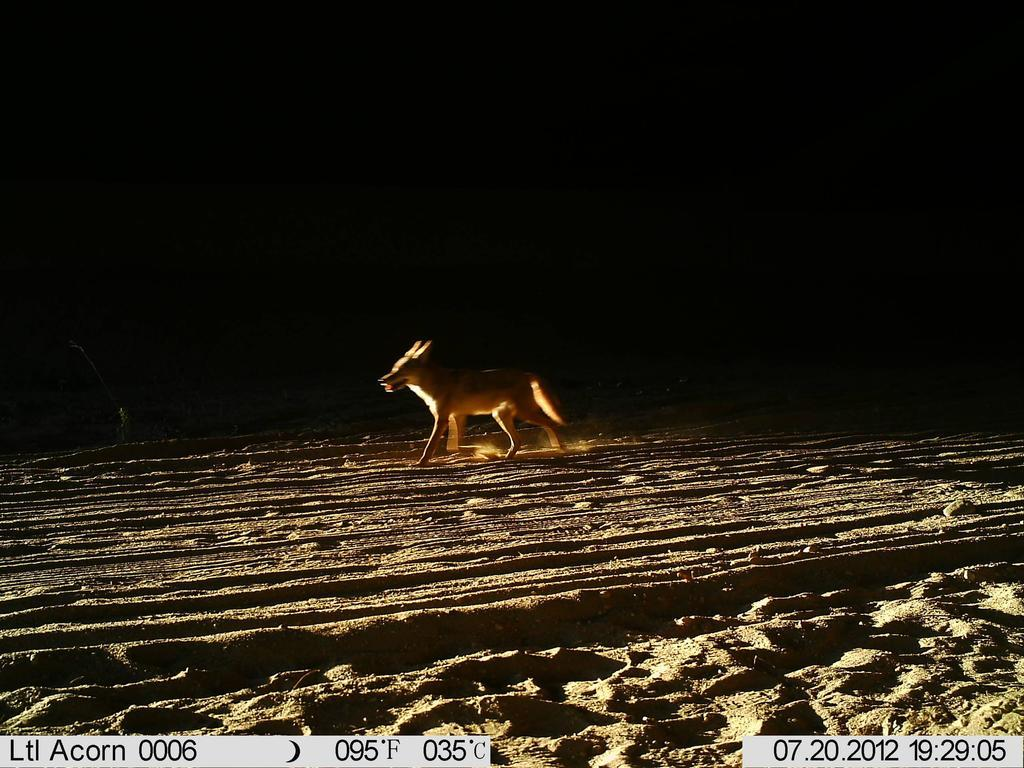coyote: (375, 336, 598, 474)
